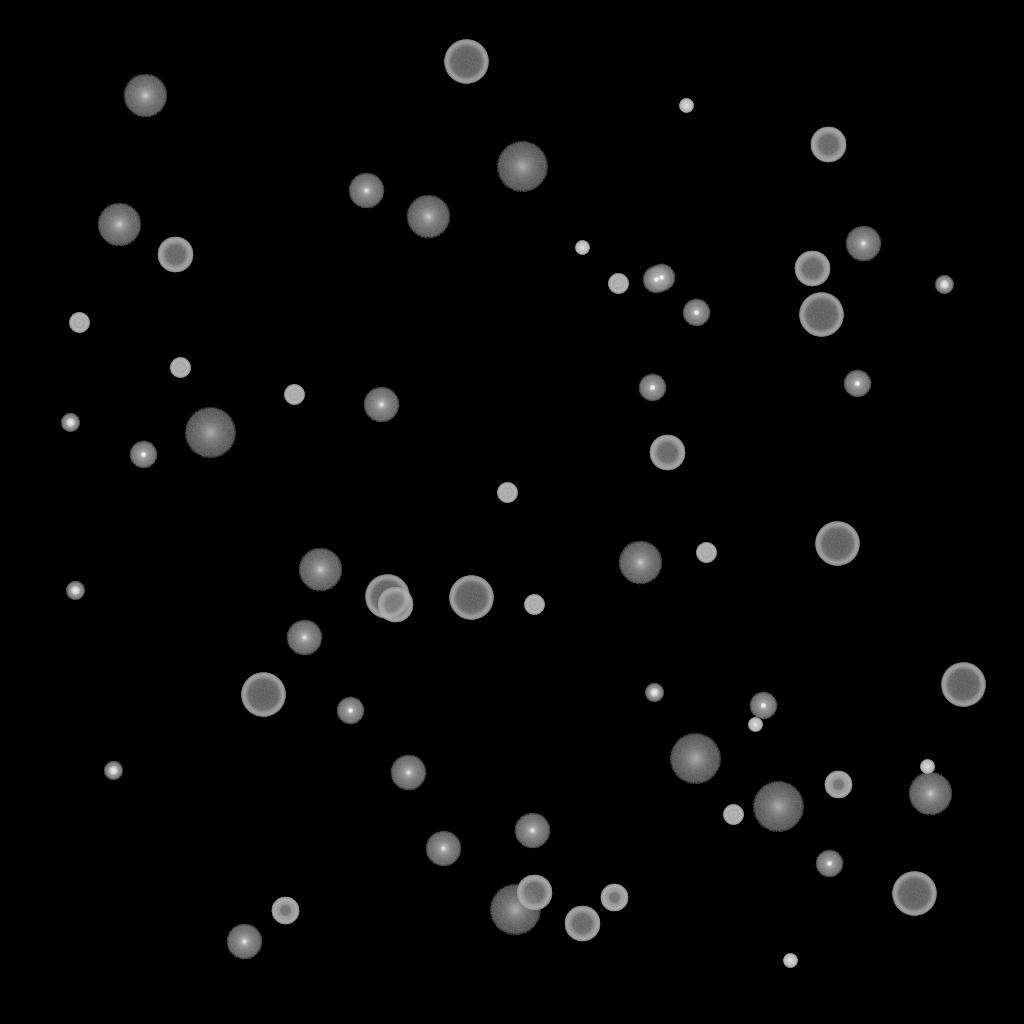depth:-10: (843, 370, 871, 398), (647, 264, 675, 292), (638, 374, 666, 402), (749, 692, 777, 720), (642, 266, 670, 294), (682, 299, 710, 327), (815, 850, 843, 878), (129, 441, 157, 469), (336, 697, 364, 725)
depth:-20: (66, 582, 84, 600), (61, 414, 79, 432), (935, 276, 953, 294), (104, 762, 122, 780), (645, 684, 663, 702)
depth:-30: (748, 718, 762, 732), (575, 241, 589, 255), (920, 760, 934, 774), (783, 954, 797, 968), (679, 99, 693, 113)
depth:-40: (497, 483, 517, 503), (69, 313, 89, 333), (723, 805, 743, 825), (170, 358, 190, 378), (284, 385, 304, 405), (524, 595, 544, 615), (696, 543, 716, 563), (608, 274, 628, 294)
depth:-50: (600, 884, 628, 912), (271, 897, 299, 925), (824, 771, 852, 799)
depth:-60: (794, 251, 830, 287), (516, 875, 552, 911), (810, 127, 846, 163), (649, 435, 685, 471), (564, 906, 600, 942), (157, 237, 193, 273), (377, 587, 413, 623)
depth:-70: (444, 40, 488, 84), (892, 872, 936, 916), (365, 575, 409, 619), (449, 576, 493, 620), (241, 673, 285, 717), (941, 663, 985, 707), (815, 522, 859, 566), (799, 293, 843, 337)
depth:0: (845, 226, 881, 262), (348, 173, 384, 209), (514, 813, 550, 849), (226, 924, 262, 960), (390, 755, 426, 791), (425, 831, 461, 867), (286, 620, 322, 656), (363, 387, 399, 423)
depth:10: (618, 541, 662, 585), (406, 195, 450, 239), (908, 772, 952, 816), (123, 74, 167, 118), (97, 203, 141, 247), (298, 548, 342, 592)
depth:20: (184, 408, 236, 458), (669, 734, 721, 784), (752, 782, 804, 832), (489, 885, 541, 935), (496, 142, 548, 192)
